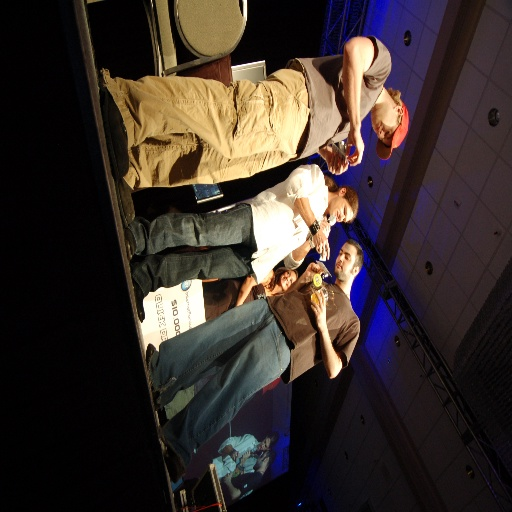hand: (344, 125, 366, 168), (323, 144, 349, 174), (310, 287, 326, 328), (312, 225, 330, 260), (301, 260, 324, 284), (318, 215, 330, 237), (241, 449, 250, 462), (224, 469, 231, 485), (230, 449, 240, 460), (232, 468, 239, 477)
